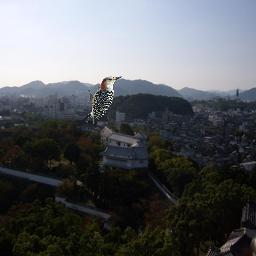Woodpecker: (84, 76, 122, 124)
